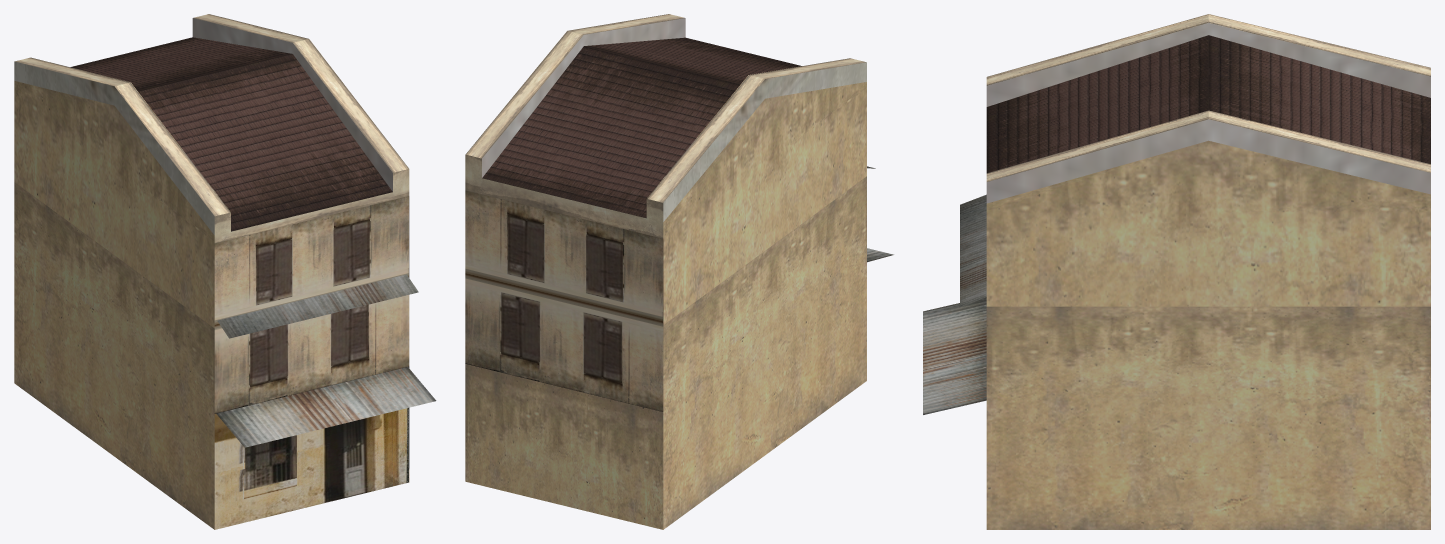
Rendered from SM_Building_Large_05.fbx.
The picture shows the model from 3 angles, left to right: view 1: azimuth 30°, elevation 25°; view 2: azimuth 150°, elevation 25°; view 3: azimuth 270°, elevation 25°; orthographic projection. The views are drawn at different scales.
Parts seen in each view (by area): view 1: SM_Building_Large_05; view 2: SM_Building_Large_05; view 3: SM_Building_Large_05.
Boxes of the visible parts, bbox=[...] form: SM_Building_Large_05: bbox=[14, 14, 436, 529]; SM_Building_Large_05: bbox=[465, 14, 893, 529]; SM_Building_Large_05: bbox=[923, 14, 1430, 529].
Size of the model in its own units: 6.07 by 11.03 by 12.36.
